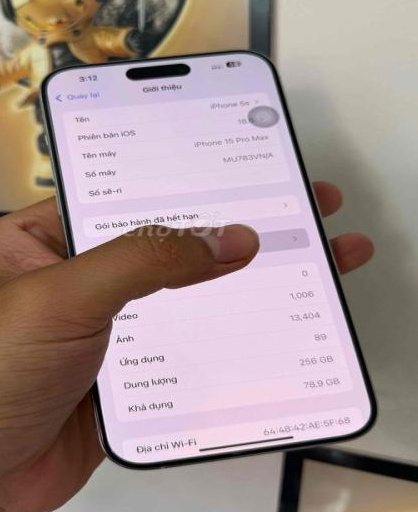scratch: (157, 463, 168, 470)
